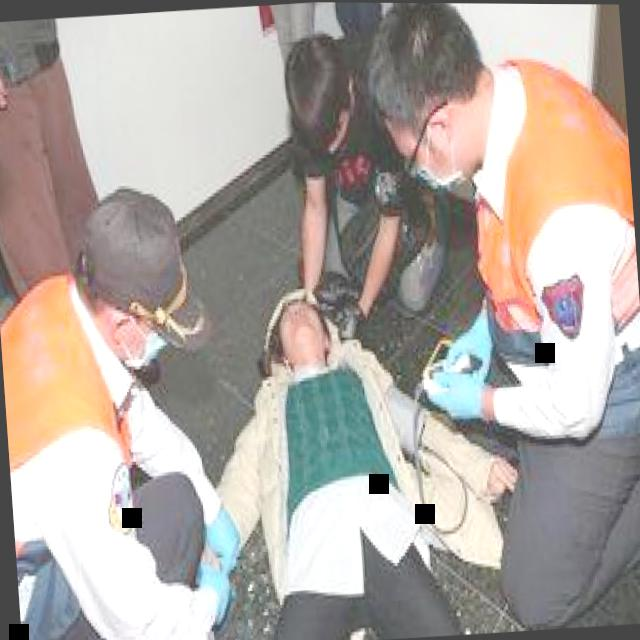Fall-Detected: (194, 241, 522, 640)
